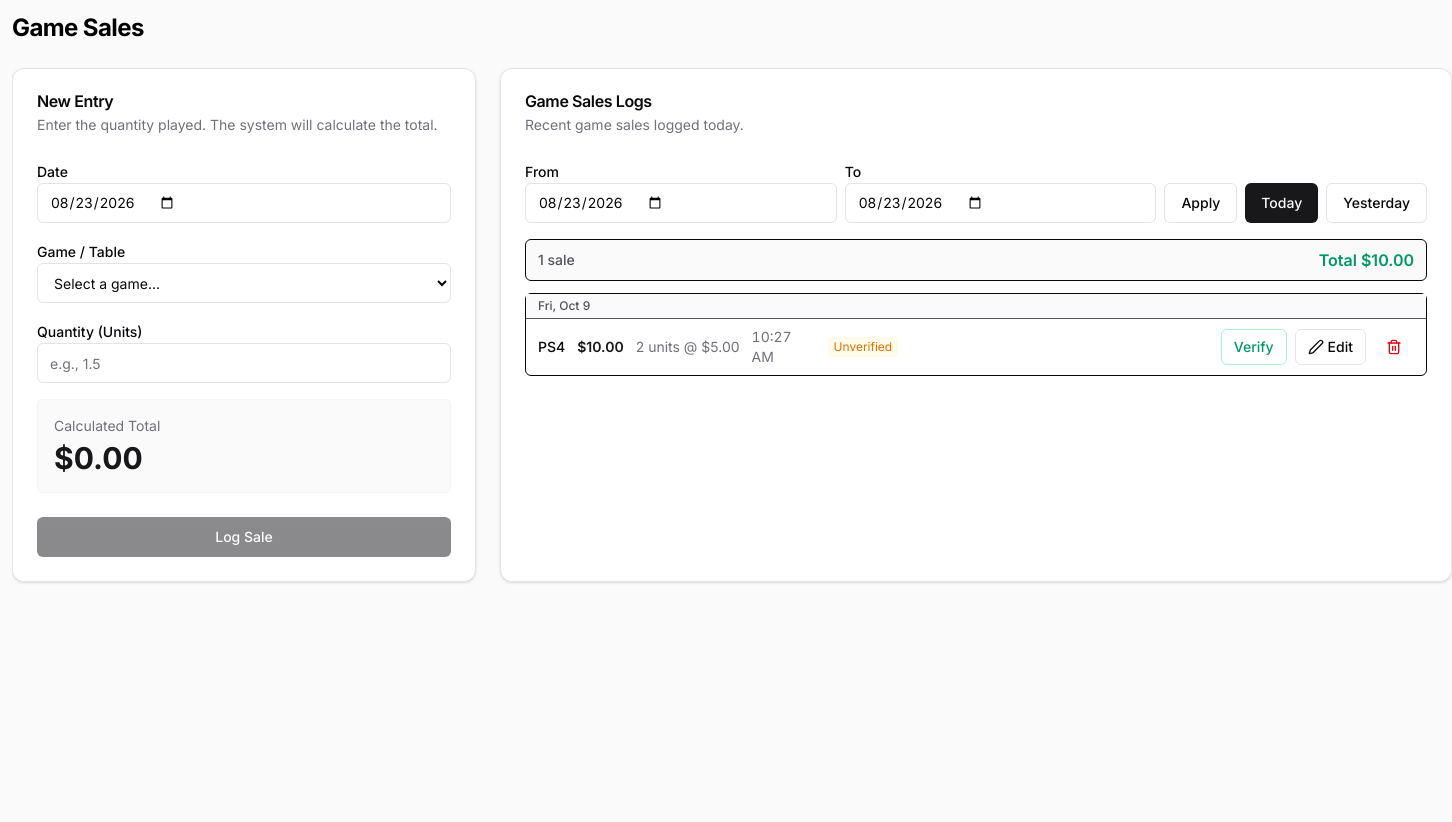
Test: GameSales › keeps an updated sale visible when its persisted date is still in range
expect the text "2 units @ $5.00" is shown: met, box [636, 337, 740, 357]
Click the button "Edit" at (1330, 347), box [1295, 329, 1366, 365]
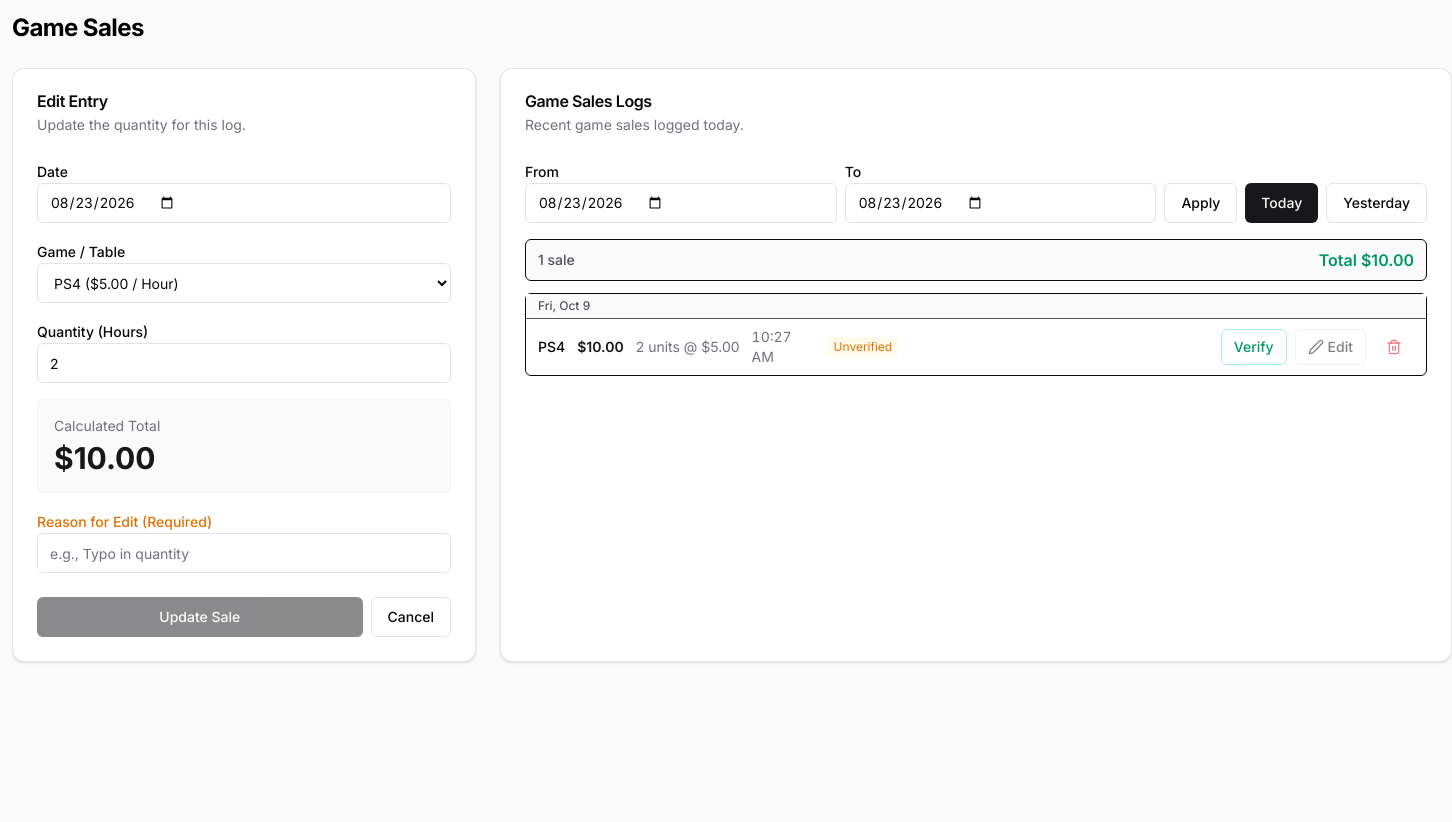
Type "Adjust quantity" into the field labelled "Reason for Edit (Required)" at (244, 553), box [37, 533, 451, 573]
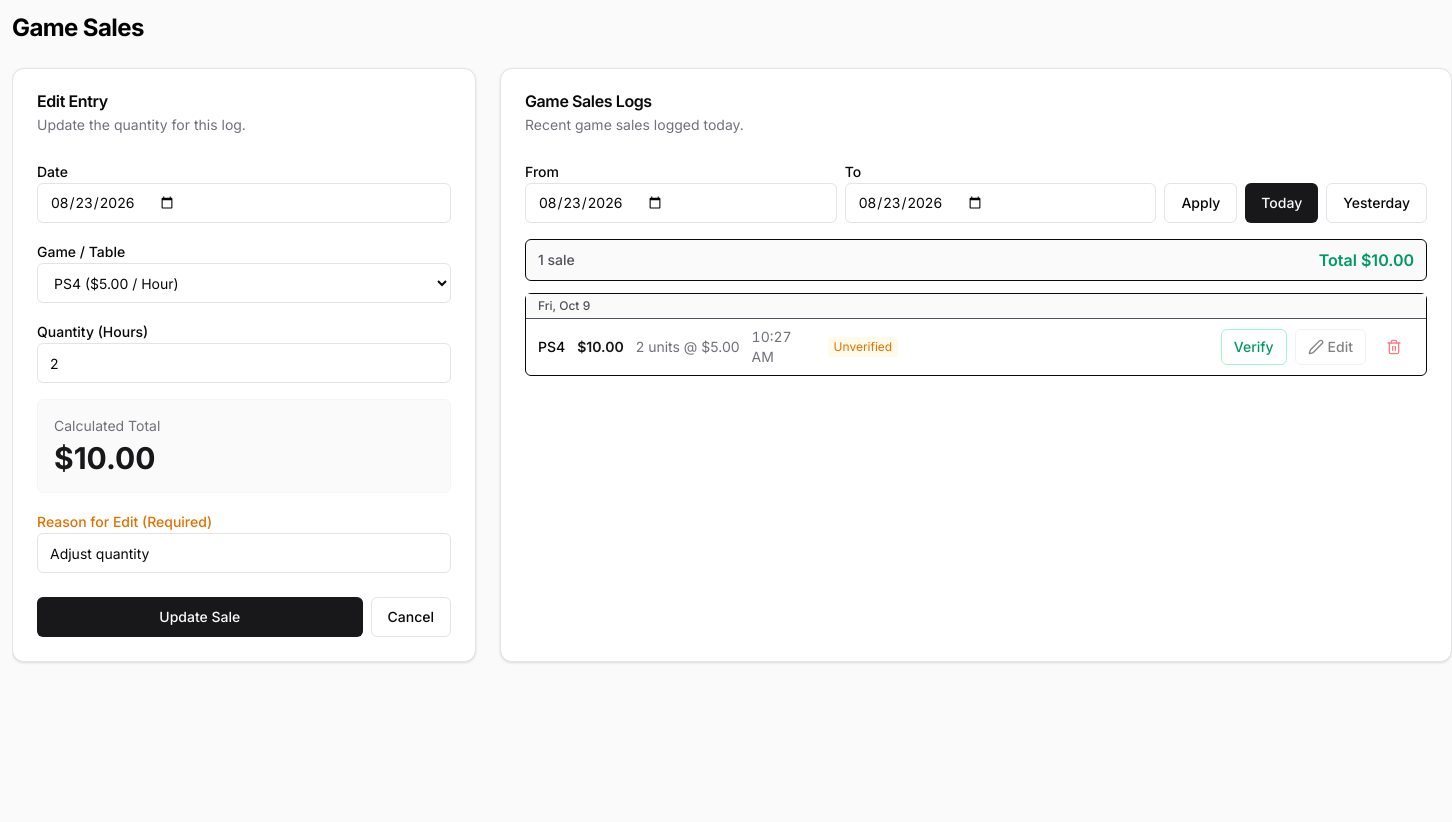
Replace the text in the number field labelled "Quantity (Hours)" with "3" at (244, 363), box [37, 343, 451, 383]
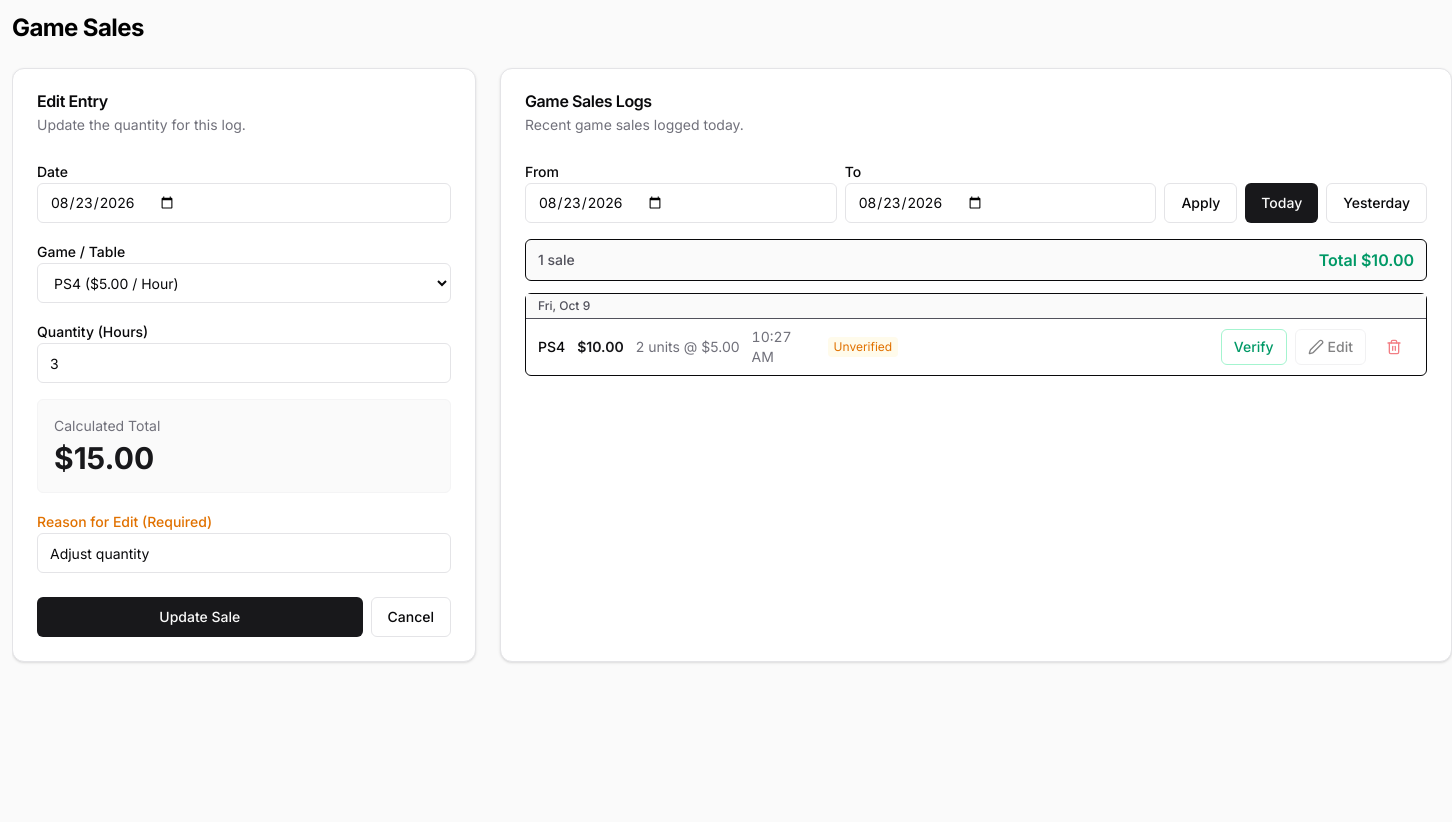
Submit the text "Update Sale", box [13, 69, 475, 661]
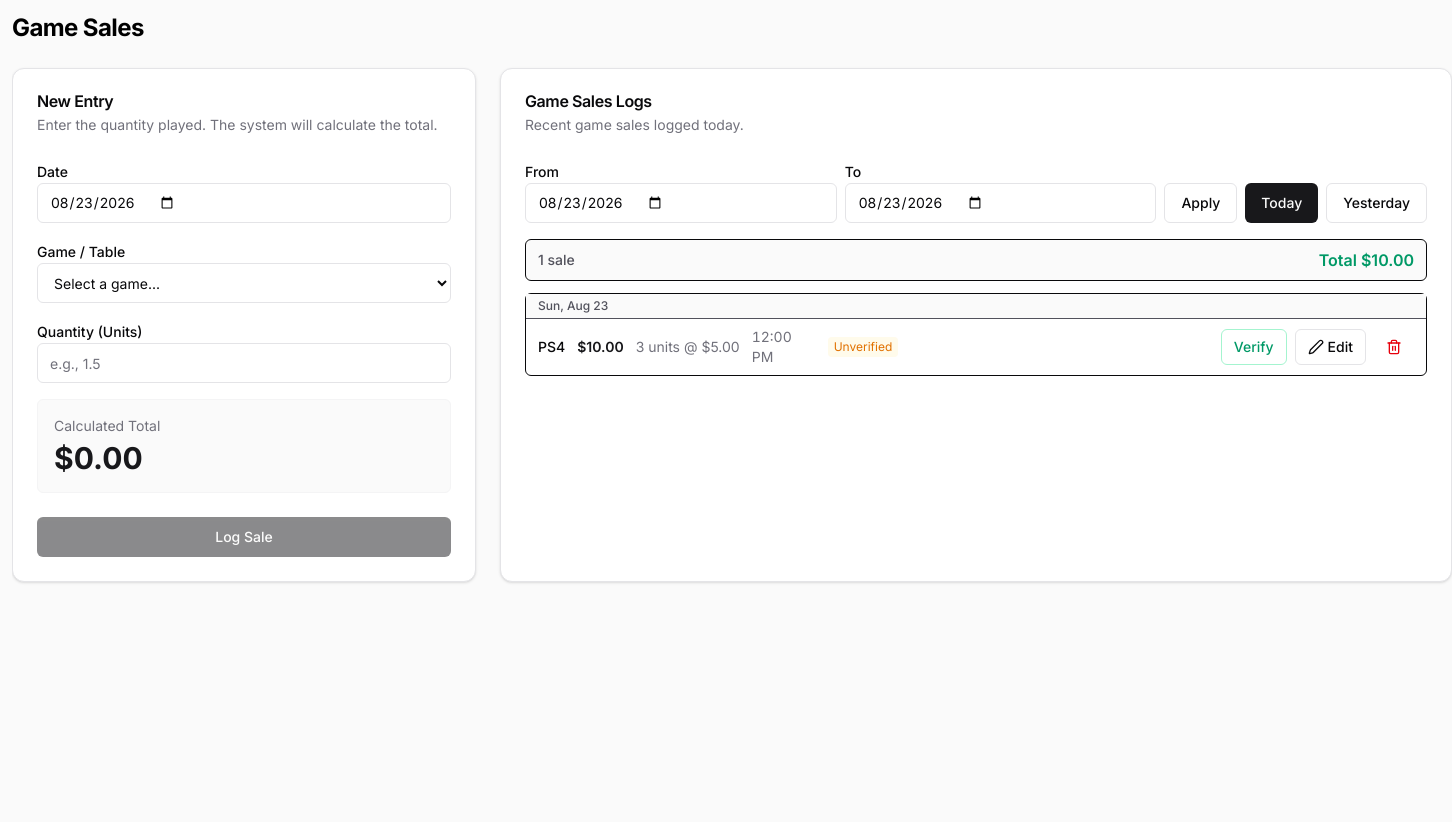
expect the text "3 units @ $5.00" is shown: met, box [636, 337, 740, 357]
